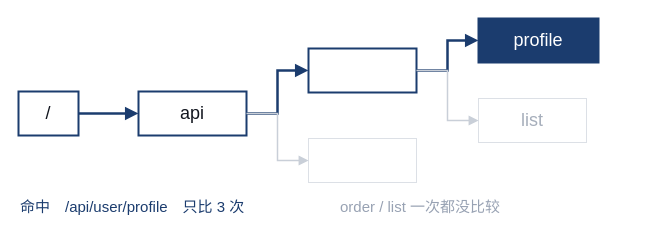
Some shapes in this 655 by 235 pixel diagram are drawn without their labels. The centre of each missing label's shape, as x and y in pixels:
"order" goes at (362,160).
"user" goes at (362,70).
